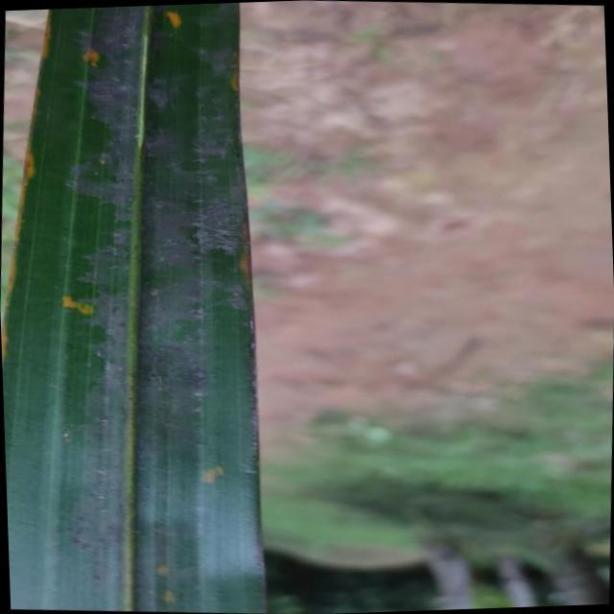Kalium: (6, 0, 266, 614)
